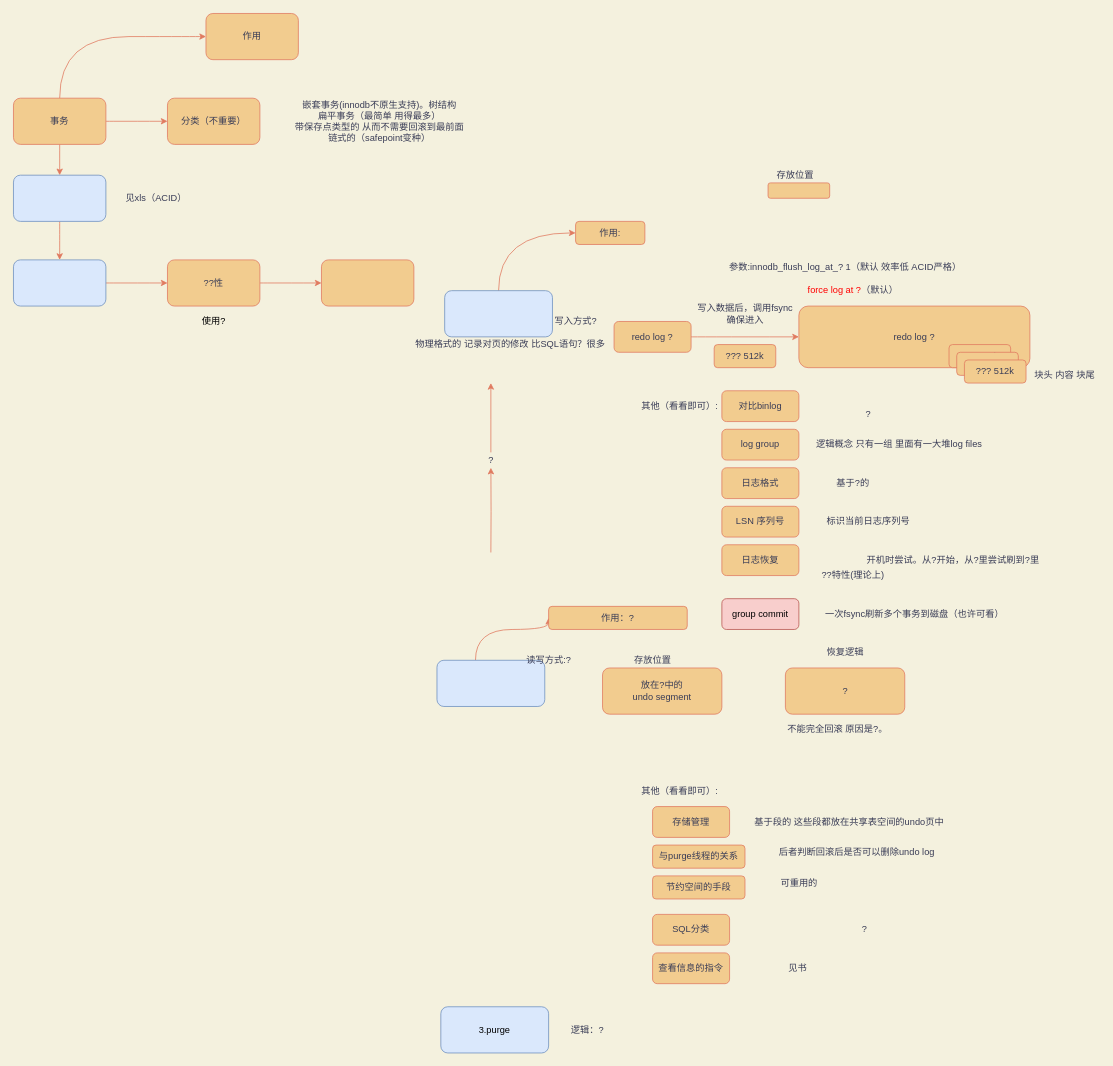
The diagram is 1113 pixels wide and 1066 high, and some of its shapes have lost their labels. Here are the shapes that lost their labels. From the top down, the centre of each, then its label:
At (x=59, y=197): "特性（重要）".
At (x=59, y=282): "实现".
At (x=367, y=282): "其他特性：日志功能".
At (x=498, y=313): "1.redo log 重做日志".
At (x=490, y=683): "2.undo log".
